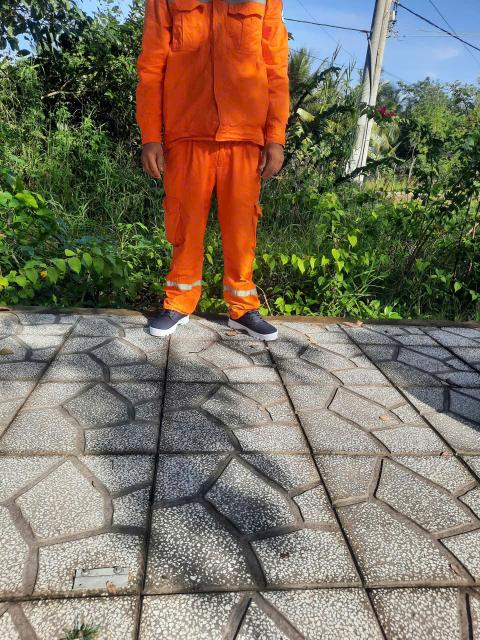shoes: (217, 299, 291, 344), (138, 300, 198, 347)
